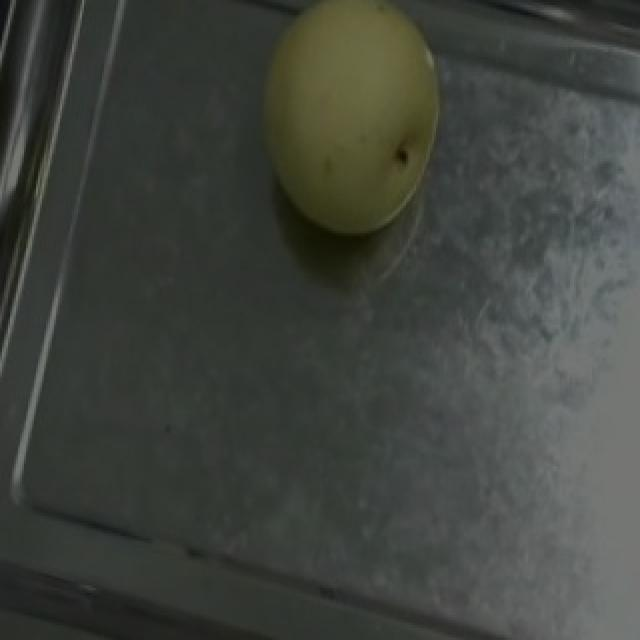Fruit: (220, 0, 484, 273)
